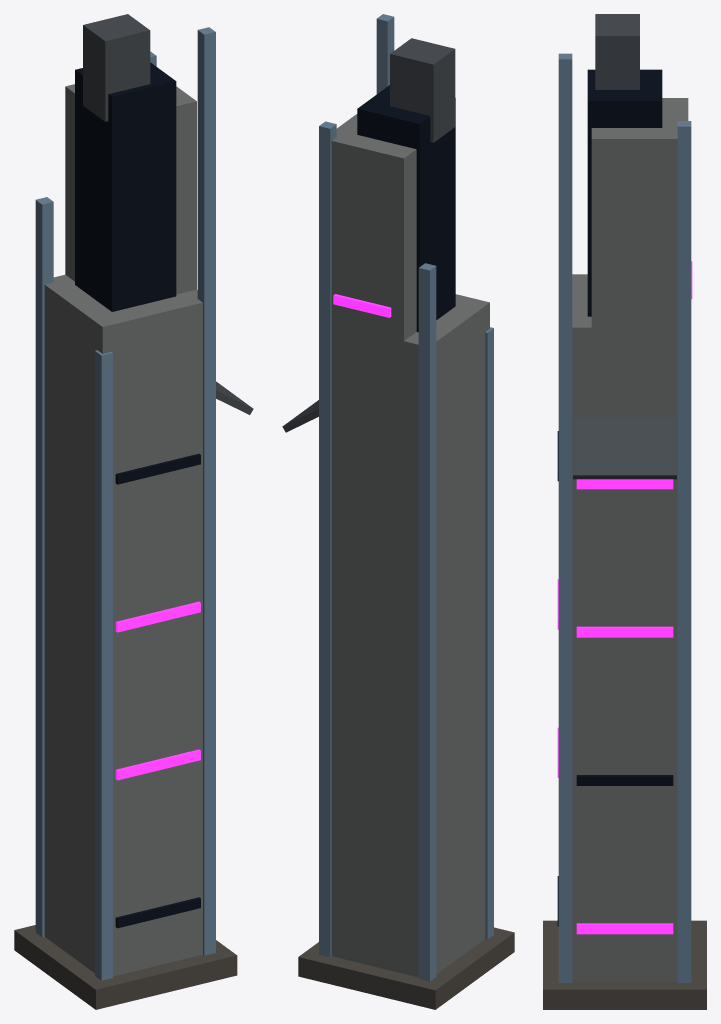
The model's file is highrise_b_low.glb.
3 views of the same model, side by side, from view 1: azimuth 30°, elevation 25°; view 2: azimuth 150°, elevation 25°; view 3: azimuth 270°, elevation 25° (orthographic). The views are drawn at different scales.
Visible parts, largest first — view 1: Shell, Core, Corner column.003, Corner column.002, Corner column, Plinth, Upper shell, Crown, Window strip, Window strip.001, Window strip.002, Window strip.003; view 2: Shell, Upper shell, Corner column, Corner column.001, Core, Plinth, Corner column.002, Crown, Corner column.003, Window strip.008; view 3: Shell, Upper shell, Corner column.003, Corner column.001, Hanging slab, Plinth, Core, Crown, Window strip.004, Window strip.006, Window strip.005, Window strip.007.
Boxes of the visible parts, x1,y1,x2,y2 form: Shell: (44,274,202,976); Core: (75,62,176,311); Corner column.003: (197,27,215,955); Corner column.002: (95,350,112,980); Corner column: (35,197,53,937); Plinth: (14,925,237,1009); Upper shell: (65,84,196,294); Crown: (83,14,150,121); Window strip: (115,897,200,928); Window strip.001: (115,749,200,780); Window strip.002: (115,601,200,632); Window strip.003: (115,453,200,484); Shell: (331,294,489,977); Upper shell: (331,114,416,340); Corner column: (418,263,436,981); Corner column.001: (319,121,336,957); Core: (357,85,455,332); Plinth: (298,927,514,1009); Corner column.002: (485,327,493,939); Crown: (390,38,455,142); Corner column.003: (376,14,394,93); Window strip.008: (333,294,391,317); Shell: (572,274,677,981); Upper shell: (591,98,688,327); Corner column.003: (558,53,572,982); Corner column.001: (677,121,691,982); Hanging slab: (573,417,676,479); Plinth: (543,920,706,1009); Core: (587,69,662,316); Crown: (595,14,639,89); Window strip.004: (576,923,673,934); Window strip.006: (576,626,673,637); Window strip.005: (576,775,673,785); Window strip.007: (576,479,673,489).
Size of the model in its own units: 2.69 by 14 by 2.2.
